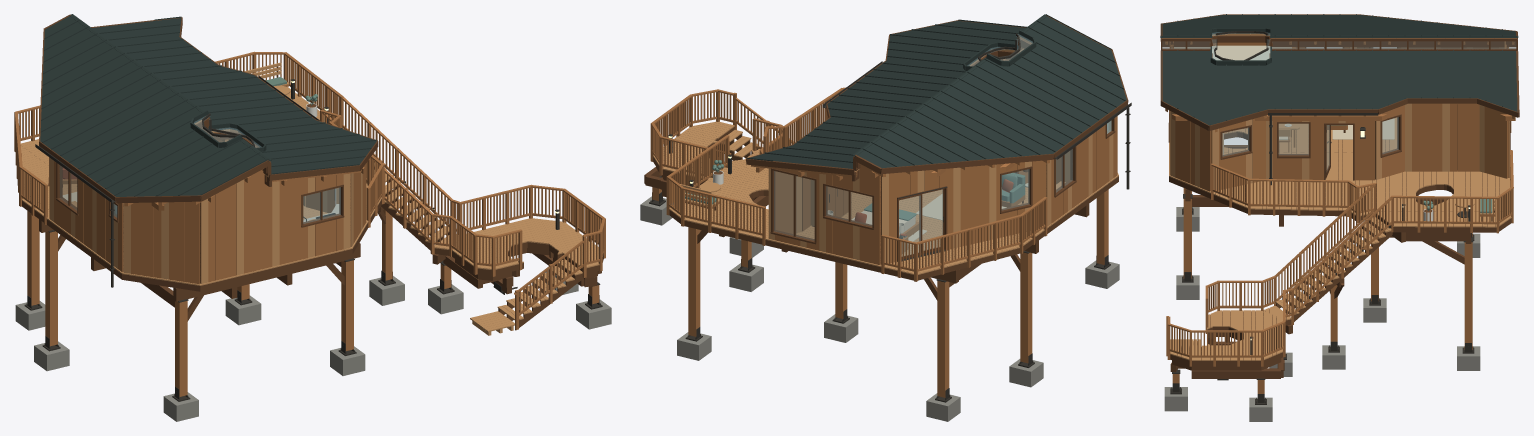
File: treehouse-complete.glb
The picture shows the model from 3 angles, left to right: view 1: azimuth 30°, elevation 25°; view 2: azimuth 150°, elevation 25°; view 3: azimuth 270°, elevation 25°; orthographic projection. The views are drawn at different scales.
Visible parts, largest first — view 1: Treehouse 07 | timber, Treehouse 07 | roof, Treehouse 07 | timber_light, Treehouse 07 | timber_dark, Treehouse 07 | concrete, Treehouse 07 | metal, Treehouse 07 | glass; view 2: Treehouse 07 | roof, Treehouse 07 | timber (×2), Treehouse 07 | timber_light, Treehouse 07 | timber_dark, Treehouse 07 | glass (×6), Treehouse 07 | concrete, Treehouse 07 | metal; view 3: Treehouse 07 | timber, Treehouse 07 | roof, Treehouse 07 | timber_light, Treehouse 07 | timber_dark, Treehouse 07 | concrete, Treehouse 07 | glass (×3), Treehouse 07 | metal, Treehouse 07 | tile_cream, Treehouse 07 | fabric.
Part boxes in pixels (<box>): Treehouse 07 | timber: <box>14,51,605,396</box>; Treehouse 07 | roof: <box>40,14,376,196</box>; Treehouse 07 | timber_light: <box>20,87,603,335</box>; Treehouse 07 | timber_dark: <box>17,14,603,330</box>; Treehouse 07 | concrete: <box>15,270,611,421</box>; Treehouse 07 | metal: <box>24,76,602,401</box>; Treehouse 07 | glass: <box>303,187,340,223</box>; Treehouse 07 | roof: <box>746,14,1126,168</box>; Treehouse 07 | timber (×2): <box>650,59,1117,397</box>; Treehouse 07 | timber_light: <box>653,36,1118,274</box>; Treehouse 07 | timber_dark: <box>644,15,1128,300</box>; Treehouse 07 | glass (×6): <box>774,149,1072,256</box>; Treehouse 07 | concrete: <box>640,196,1119,421</box>; Treehouse 07 | metal: <box>649,33,1131,402</box>; Treehouse 07 | timber: <box>1165,34,1515,393</box>; Treehouse 07 | roof: <box>1160,14,1518,125</box>; Treehouse 07 | timber_light: <box>1162,33,1516,360</box>; Treehouse 07 | timber_dark: <box>1160,14,1519,378</box>; Treehouse 07 | concrete: <box>1164,207,1480,421</box>; Treehouse 07 | glass (×3): <box>1222,117,1398,156</box>; Treehouse 07 | metal: <box>1170,31,1474,404</box>; Treehouse 07 | tile_cream: <box>1174,45,1291,60</box>; Treehouse 07 | fabric: <box>1332,118,1394,139</box>.
Bounding box in the file's own units: 17.07 × 9.41 × 12.28.
